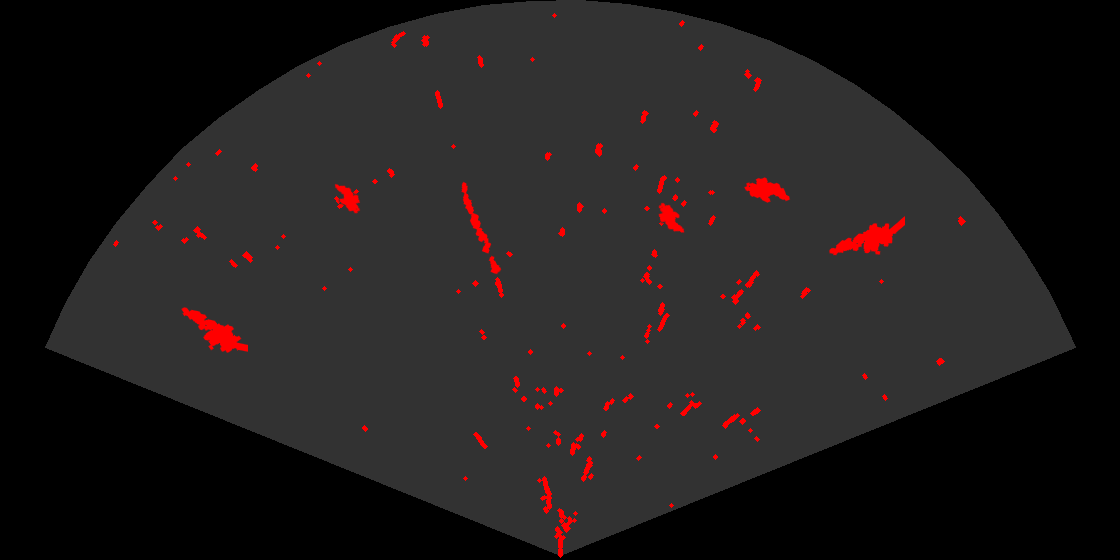AUV: (743, 176, 791, 204), (657, 201, 686, 235), (333, 182, 362, 215)
chain: (460, 180, 503, 276)
frogman: (180, 306, 248, 354), (828, 215, 905, 257)
